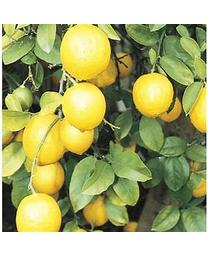lemon: (61, 24, 111, 81), (22, 112, 65, 164), (63, 83, 106, 133), (134, 74, 174, 119)
